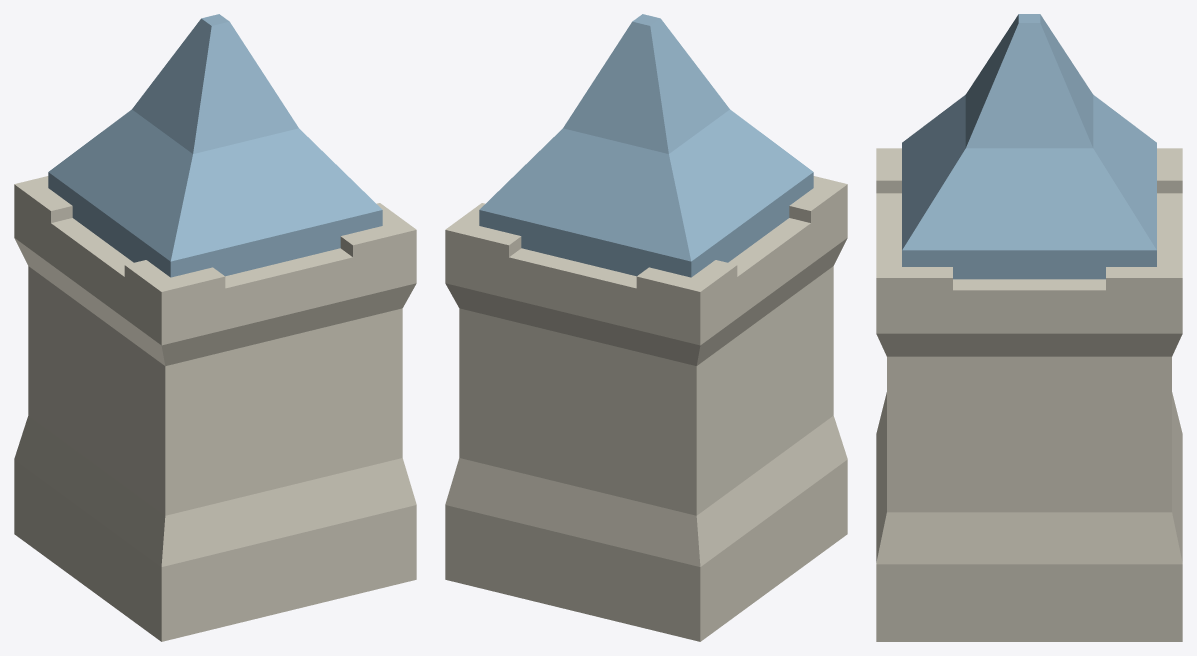
File: towerSquareRoof.fbx
3 renders of one model, left to right at view 1: azimuth 30°, elevation 25°; view 2: azimuth 150°, elevation 25°; view 3: azimuth 270°, elevation 25°, orthographic. The views are drawn at different scales.
Visible parts, largest first — view 1: towerSquareRoof, towerSquareRoof_cell.003, towerSquareRoof_cell.001, towerSquareRoof_cell.007, towerSquareRoof_cell.002, towerSquareRoof_cell.005, towerSquareRoof_cell.004; view 2: towerSquareRoof, towerSquareRoof_cell.007, towerSquareRoof_cell, towerSquareRoof_cell.006, towerSquareRoof_cell.003, towerSquareRoof_cell.002; view 3: towerSquareRoof, towerSquareRoof_cell, towerSquareRoof_cell.005, towerSquareRoof_cell.006, towerSquareRoof_cell.004, towerSquareRoof_cell.001, towerSquareRoof_cell.003, towerSquareRoof_cell.007.
Part boxes in pixels (x1=…): towerSquareRoof: x1=14, y1=19, x2=416, y2=641; towerSquareRoof_cell.003: x1=14, y1=283, x2=416, y2=541; towerSquareRoof_cell.001: x1=170, y1=93, x2=398, y2=444; towerSquareRoof_cell.007: x1=14, y1=18, x2=212, y2=436; towerSquareRoof_cell.002: x1=14, y1=490, x2=416, y2=641; towerSquareRoof_cell.005: x1=364, y1=368, x2=411, y2=489; towerSquareRoof_cell.004: x1=395, y1=230, x2=416, y2=368; towerSquareRoof: x1=445, y1=14, x2=847, y2=641; towerSquareRoof_cell.007: x1=621, y1=18, x2=838, y2=540; towerSquareRoof_cell: x1=445, y1=16, x2=654, y2=287; towerSquareRoof_cell.006: x1=459, y1=336, x2=681, y2=519; towerSquareRoof_cell.003: x1=700, y1=180, x2=847, y2=575; towerSquareRoof_cell.002: x1=700, y1=438, x2=847, y2=641; towerSquareRoof: x1=876, y1=14, x2=1182, y2=641; towerSquareRoof_cell: x1=1023, y1=15, x2=1182, y2=385; towerSquareRoof_cell.005: x1=880, y1=250, x2=1083, y2=545; towerSquareRoof_cell.006: x1=879, y1=382, x2=1171, y2=641; towerSquareRoof_cell.004: x1=876, y1=278, x2=901, y2=412; towerSquareRoof_cell.001: x1=876, y1=180, x2=940, y2=393; towerSquareRoof_cell.003: x1=876, y1=148, x2=893, y2=562; towerSquareRoof_cell.007: x1=893, y1=14, x2=1182, y2=193.
Bounding box in the file's own units: 1000 × 2010 × 1000.
